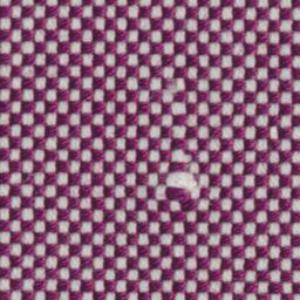defect: (158, 84, 203, 205)
